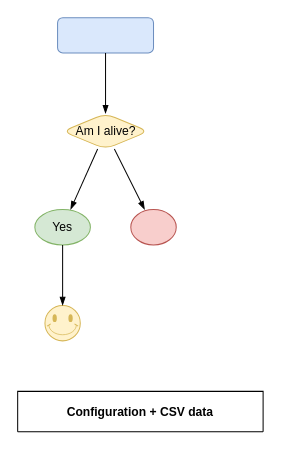
The diagram is 281 pixels wide and 449 high, and some of its shapes have lost their labels. Here are the shapes that lost their labels. From the top down, the centre of each, then its label:
(105,35): Hello World
(153,227): No
